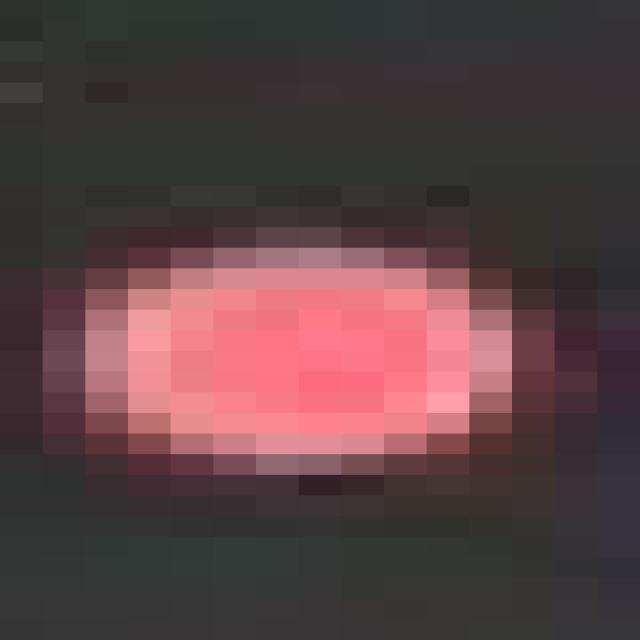.: (10, 201, 627, 539)
